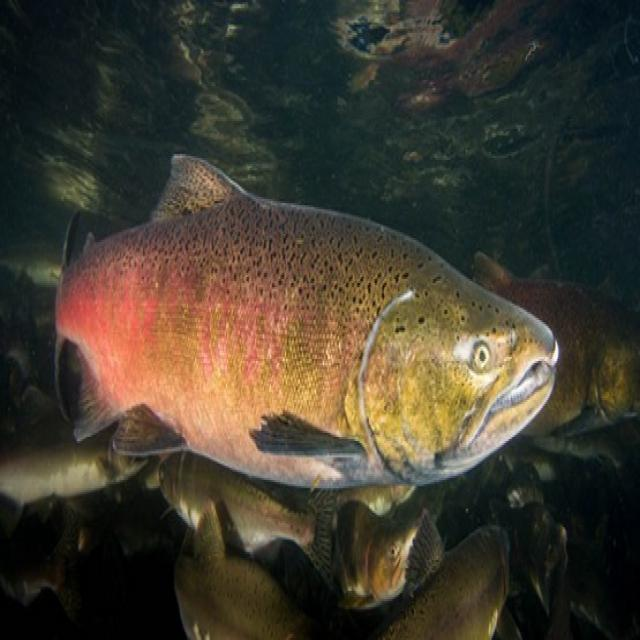salmon: (55, 154, 560, 492)
